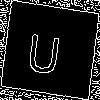U: (25, 24, 64, 76)
